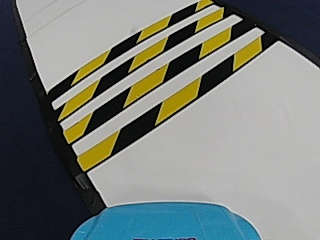bump: (60, 15, 243, 136)
